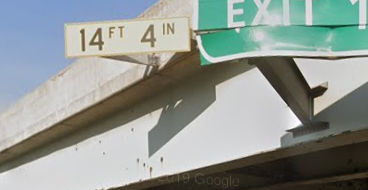1: (75, 25, 88, 53)
4: (137, 22, 158, 51), (87, 24, 106, 53)
overheadsign: (64, 16, 189, 58)
